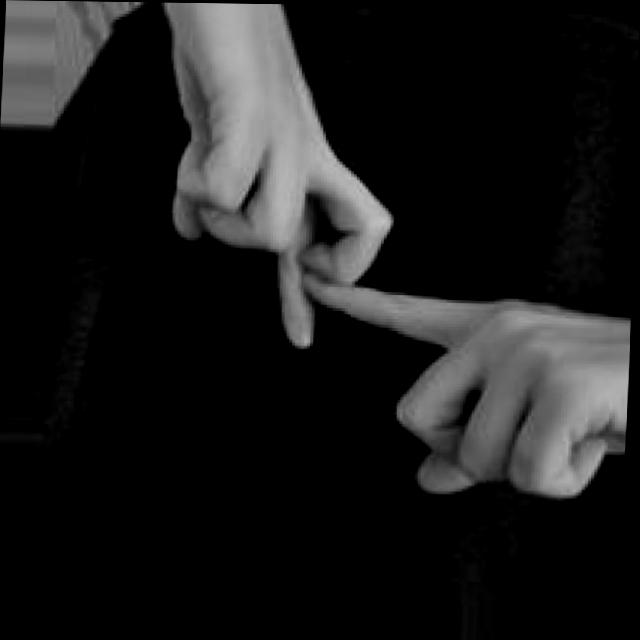R: (149, 53, 638, 511)
